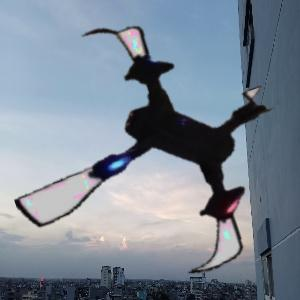drone: (8, 15, 292, 299)
